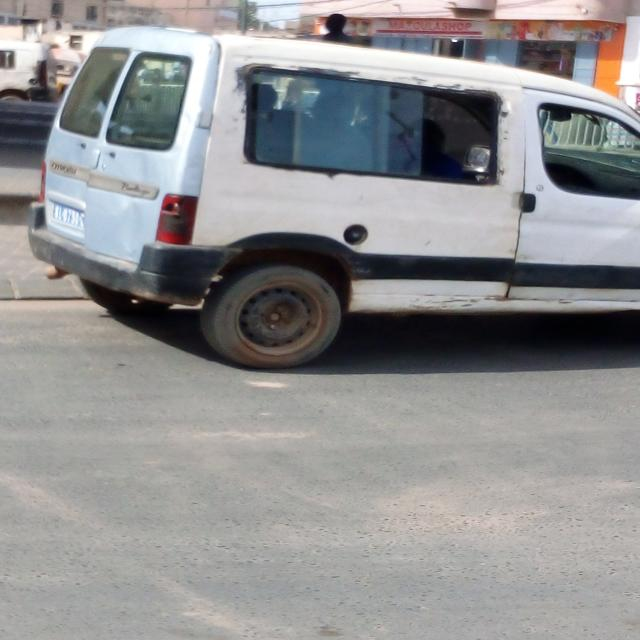particulier: (29, 29, 639, 369)
